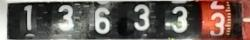digits: (132, 3, 150, 30), (94, 7, 111, 33), (57, 4, 74, 30), (172, 5, 188, 32), (209, 11, 225, 36), (23, 4, 32, 30)
